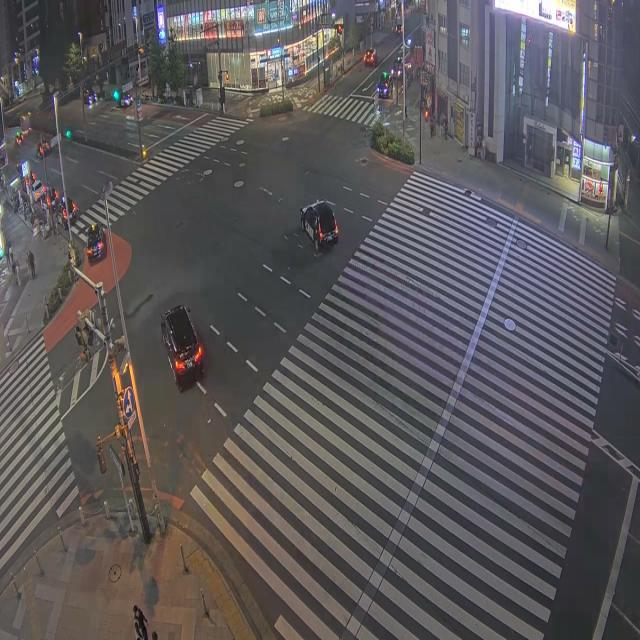car: (161, 306, 204, 391), (300, 201, 338, 251), (86, 224, 106, 262), (56, 196, 77, 228), (377, 72, 392, 98), (390, 55, 404, 79), (32, 180, 45, 201), (364, 48, 377, 67), (37, 141, 51, 158), (84, 89, 97, 105), (121, 95, 133, 108), (392, 23, 402, 36)
